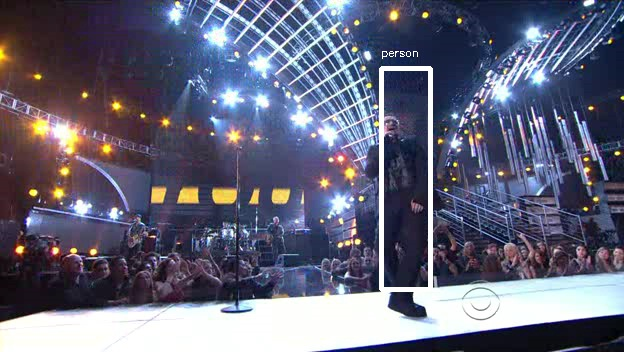person: (365, 113, 432, 226), (362, 113, 429, 226), (368, 113, 435, 226), (365, 110, 432, 223), (365, 116, 432, 229)
target_negative: (184, 25, 417, 235), (70, 162, 314, 305), (570, 159, 587, 250), (23, 27, 321, 31), (573, 84, 584, 123), (490, 326, 548, 330)
